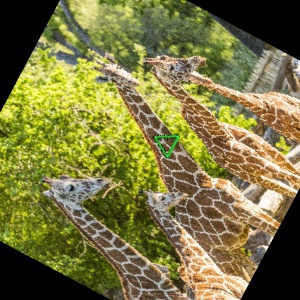triangle: (152, 131, 181, 160)
